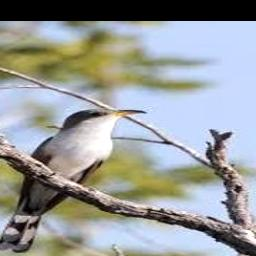Cuckoo: (0, 109, 146, 253)
